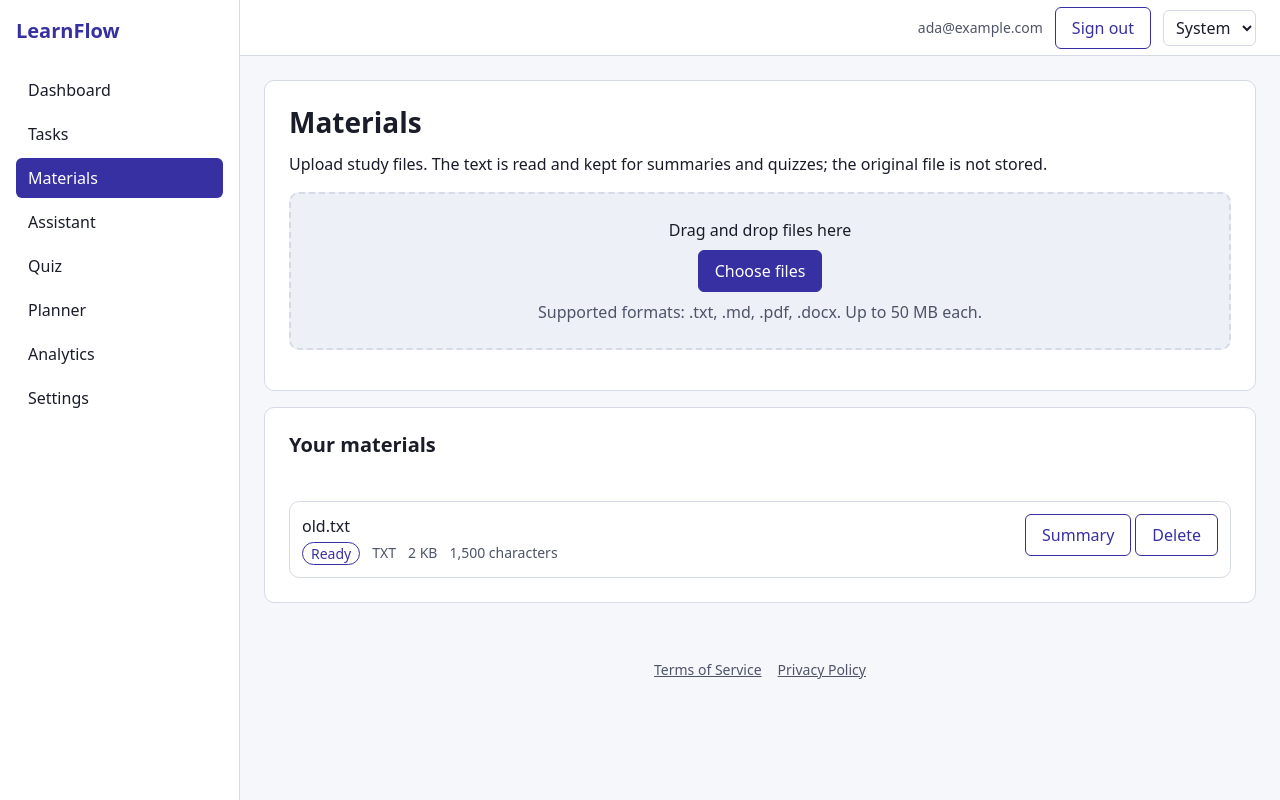
Test case: deleting materials › asks first and names the material before deleting anything
Check: the element that starts with "Materials" is shown, box 240,56 -> 1279,643
Click the button with aria-label "Delete: old.txt".
click(1177, 535)  # box 1135,514 -> 1218,556
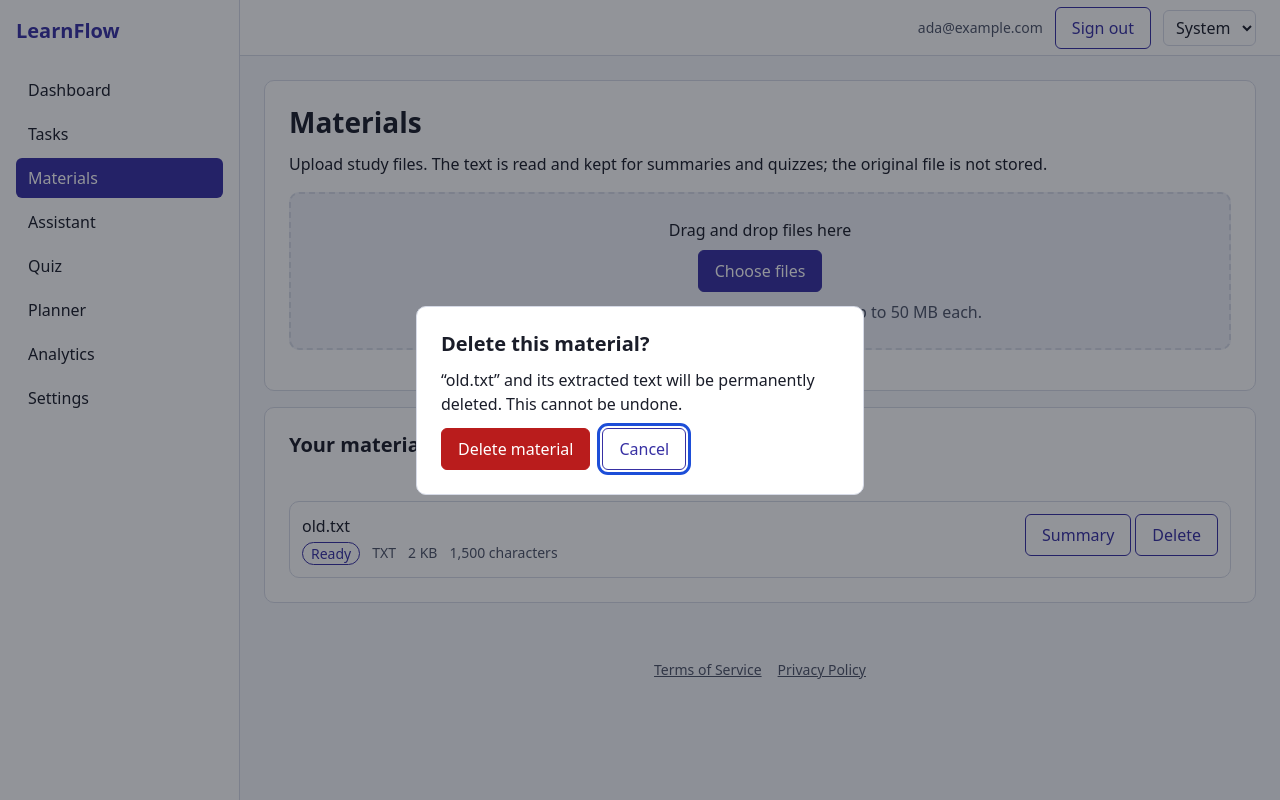
Check: the text "“old.txt” and its extracted text will be permanently deleted" is shown, box 441,368 -> 839,416
